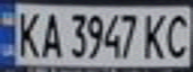3: (63, 9, 87, 60)
4: (103, 10, 124, 60)
7: (118, 10, 142, 60)
9: (84, 10, 106, 60)
A: (36, 9, 63, 60)
C: (160, 9, 193, 60)
K: (139, 9, 172, 61), (12, 8, 42, 59)
